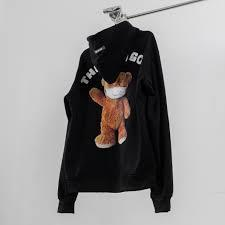sweater: (66, 30, 175, 217)
